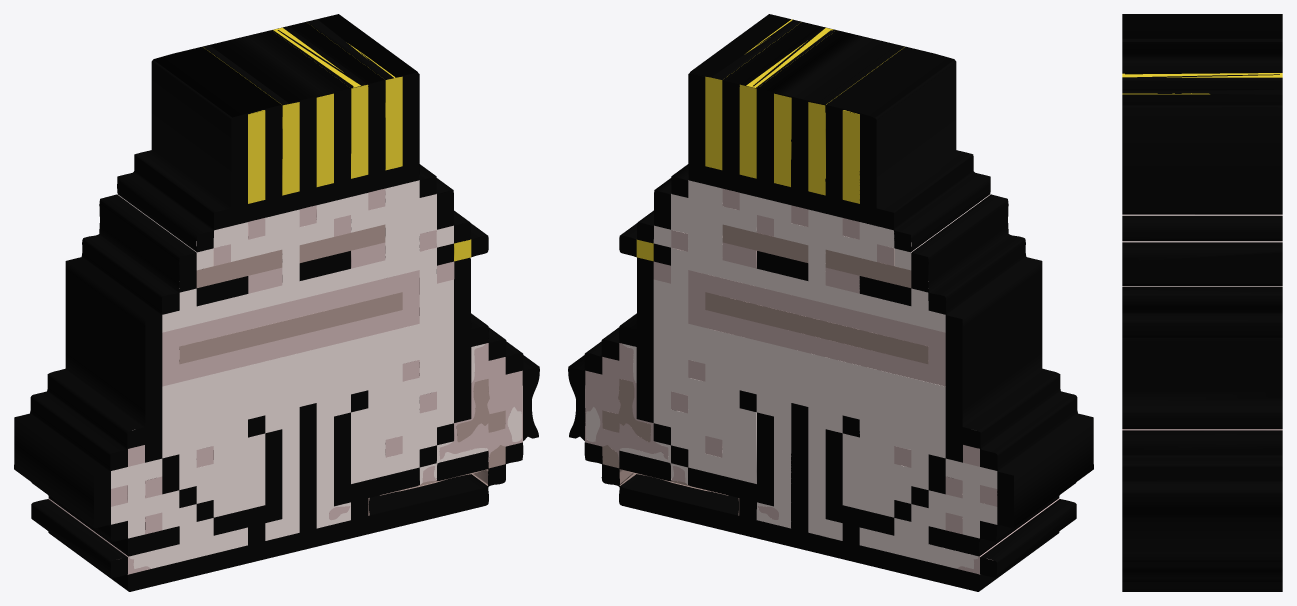
Rendered from Toadz_2356.glb.
3 views of the same model, side by side, from view 1: azimuth 30°, elevation 25°; view 2: azimuth 150°, elevation 25°; view 3: azimuth 270°, elevation 25° (orthographic).
Visible parts, largest first — view 1: Curve; view 2: Curve; view 3: Curve.
Part boxes in pixels (x1,y1,x2,y2): Curve: (14, 14, 539, 591); Curve: (568, 14, 1093, 591); Curve: (1122, 14, 1282, 591).
Bounding box in the file's own units: 3.23 × 3.12 × 1.
